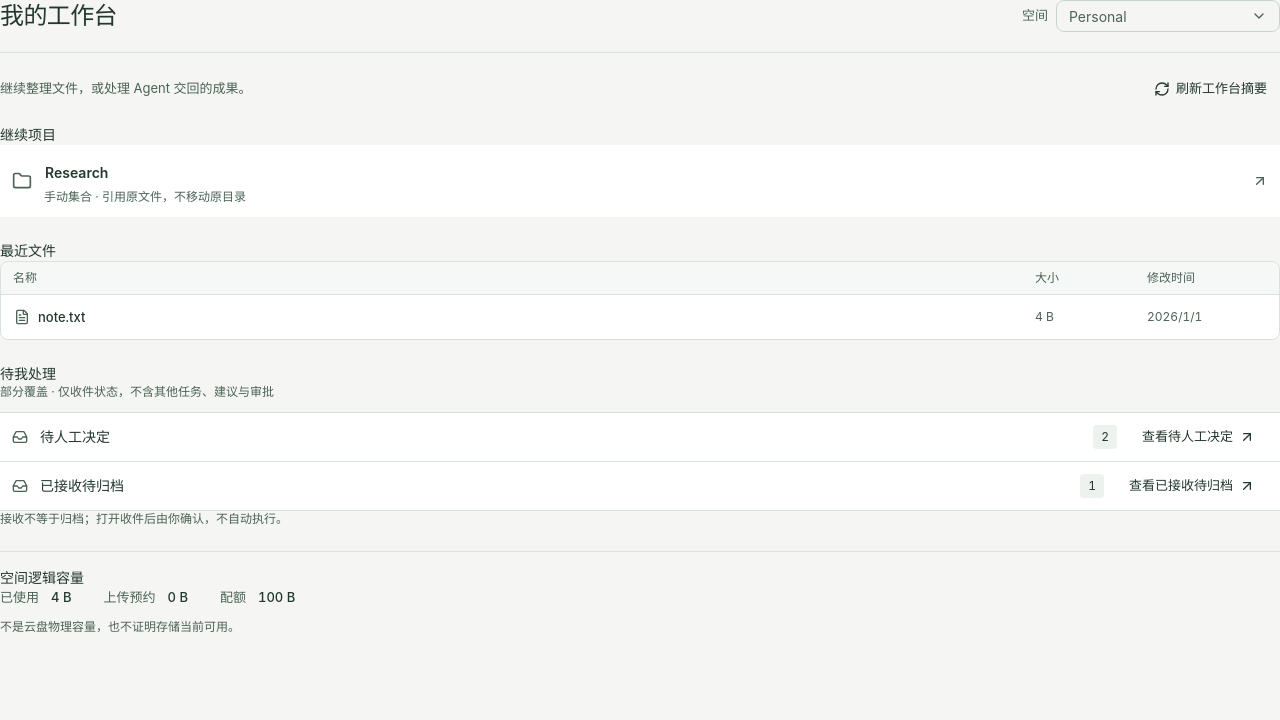
Test: rejects a substituted latest reference
This screenshot has width=1280, height=720.
What coordinates should you click on to do the following:
click the button with aria-label "查看固定引用：note.txt"
I would click on:
 (62, 317)
Its box is x1=13 y1=299 x2=1011 y2=335.
(page scrolled)
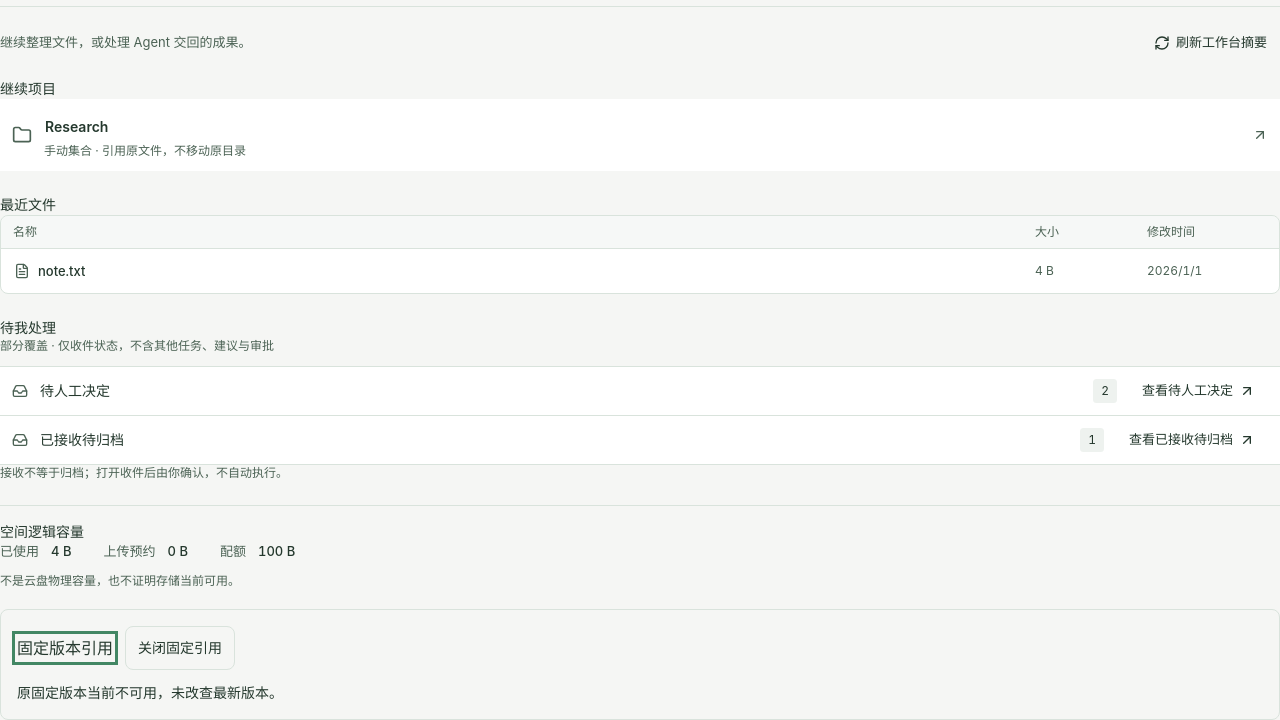
Check: the text "原固定版本当前不可用，未改查最新版本。" is shown, box x1=17 y1=684 x2=283 y2=701
